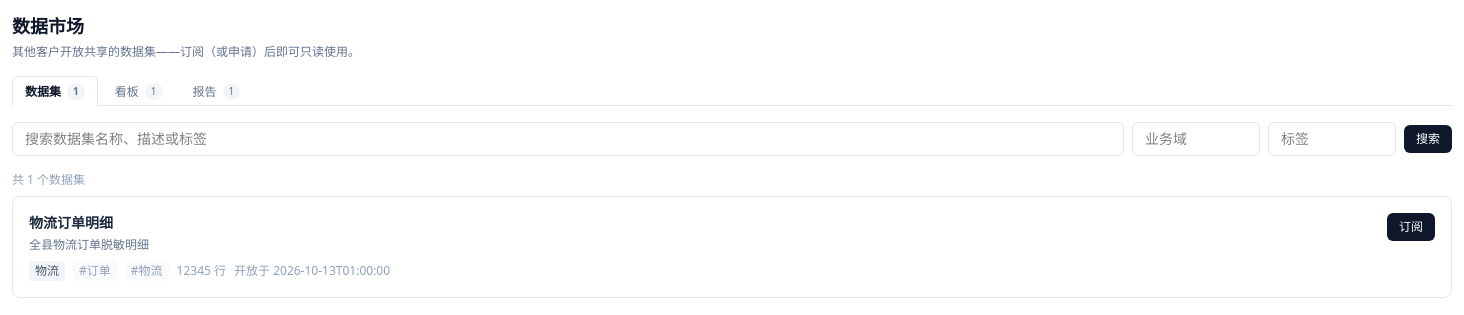
Test: MarketPage 产物页签（wire-artifact-marketplace 任务 5.2） › 三页签：default 数据集（Q14），切换看板/报告各自拉对应 kind
The image size is (1464, 315).
Expected: the list with test id "market-list" is shown, [12,196,1452,298]
Expected: the tab with test id "market-tab-reports" is shown, [180,76,253,106]
Step 1. Click the tab with test id "market-tab-dashboards" → (139, 91), box [102,76,176,106]
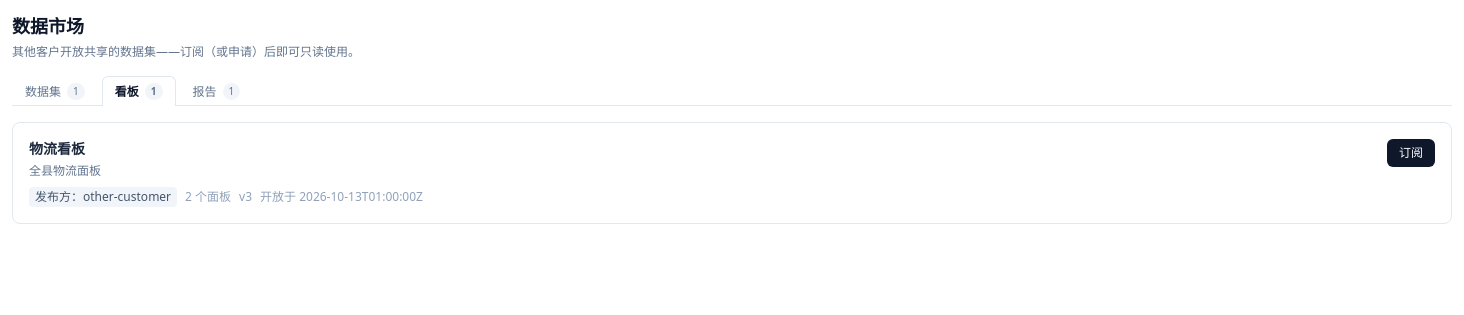
Expected: the list with test id "market-artifact-list" shows "物流看板", [29,139,101,179]
Expected: the list with test id "market-list" is gone
Step 2. Click the tab with test id "market-tab-reports" → (216, 91), box [180,76,253,106]
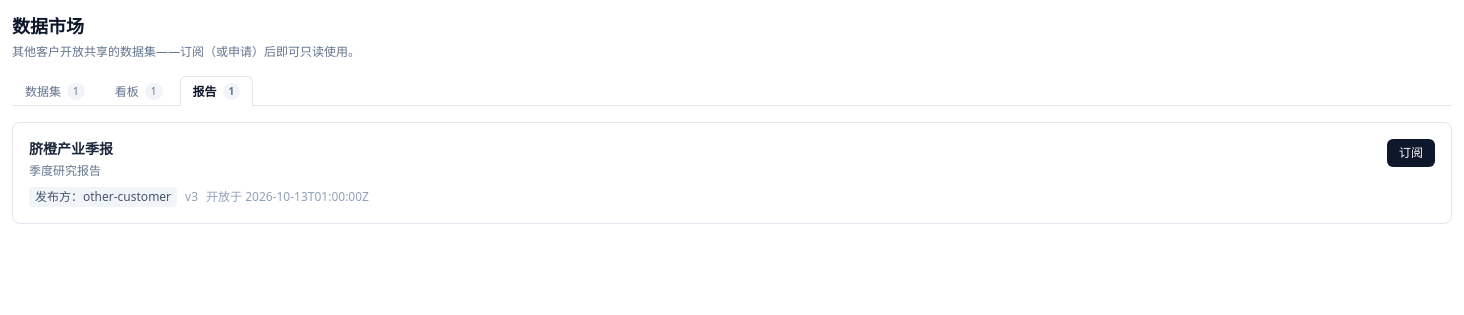
Expected: the list with test id "market-artifact-list" shows "脐橙产业季报", [29,139,113,179]
